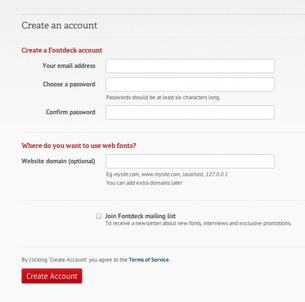button: (21, 268, 83, 283)
checkbox: (95, 211, 103, 220)
field: (101, 104, 275, 120), (102, 153, 275, 169), (101, 77, 276, 92), (101, 58, 275, 73)
field_with_label: (22, 151, 277, 171), (47, 102, 277, 121), (41, 56, 276, 74), (42, 75, 277, 93)
radio_with_label: (93, 209, 177, 222)
